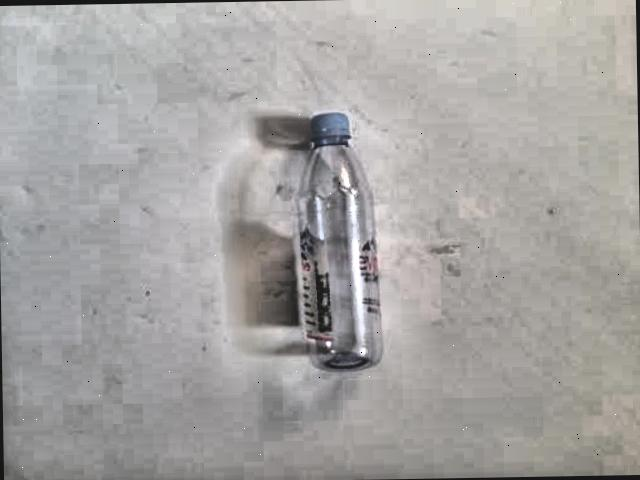Bottles: (255, 92, 391, 386)
